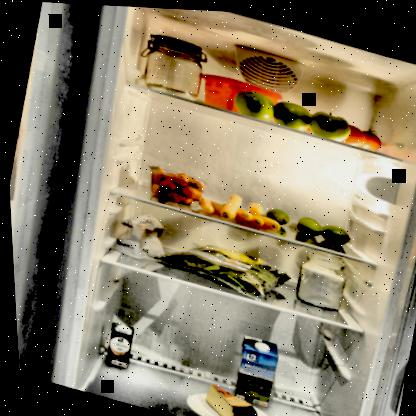apple: (228, 82, 354, 142)
butter: (191, 66, 286, 121)
carrot: (192, 181, 285, 233)
cheese: (191, 378, 266, 415)
heavy_cream: (99, 320, 134, 368)
lime: (260, 202, 352, 245)
milk: (224, 330, 284, 409)
spinach: (148, 225, 295, 307)
strawberries: (139, 160, 207, 212)
tomato: (339, 119, 385, 150)
